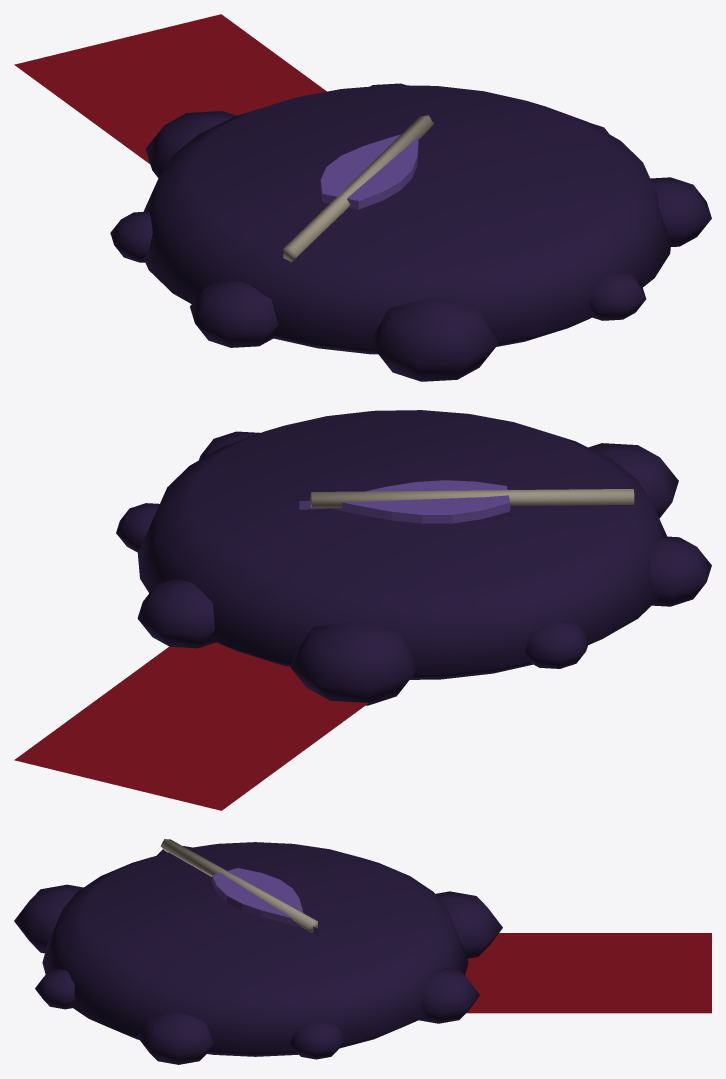
File: federsiegel.glb
The picture shows the model from 3 angles, top to bottom: view 1: azimuth 30°, elevation 25°; view 2: azimuth 150°, elevation 25°; view 3: azimuth 270°, elevation 25°; orthographic projection. The views are drawn at different scales.
Visible parts, largest first — view 1: siegel; view 2: siegel; view 3: siegel.
Boxes of the visible parts, x1,y1,x2,y2 form: siegel: [14, 14, 711, 381]; siegel: [14, 410, 711, 810]; siegel: [14, 839, 711, 1064].
Bounding box in the file's own units: 0.1227 × 0.0251 × 0.1835.
